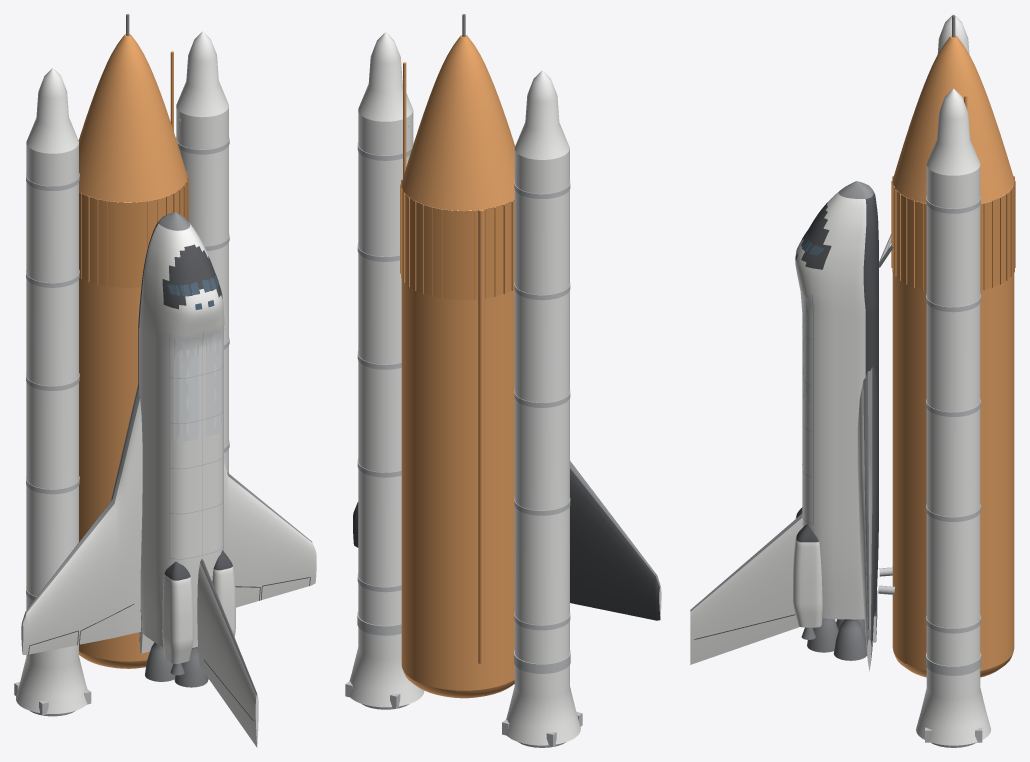
File: rocket-shuttle.glb
3 views of the same model, side by side, from view 1: azimuth 30°, elevation 25°; view 2: azimuth 150°, elevation 25°; view 3: azimuth 270°, elevation 25° (orthographic). The views are drawn at different scales.
Visible parts, largest first — view 1: rocket-shuttle; view 2: rocket-shuttle; view 3: rocket-shuttle.
Part boxes in pixels (x1=…): rocket-shuttle: x1=14, y1=14, x2=316, y2=747; rocket-shuttle: x1=345, y1=14, x2=661, y2=747; rocket-shuttle: x1=690, y1=14, x2=1015, y2=747.
Size of the model in its own units: 23.8 by 52.1 by 22.5.
